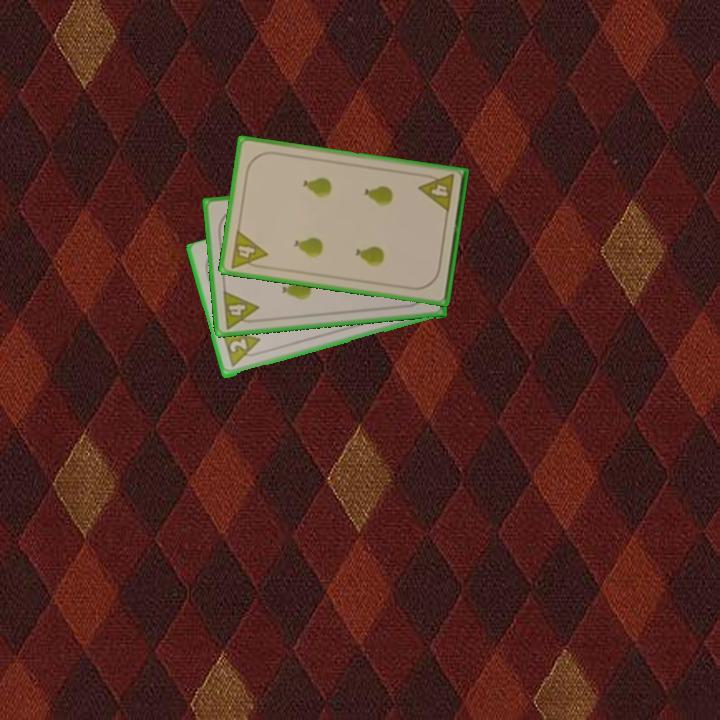2p: (218, 327, 266, 370)
4p: (227, 226, 270, 272), (219, 287, 262, 332), (416, 171, 457, 215)
